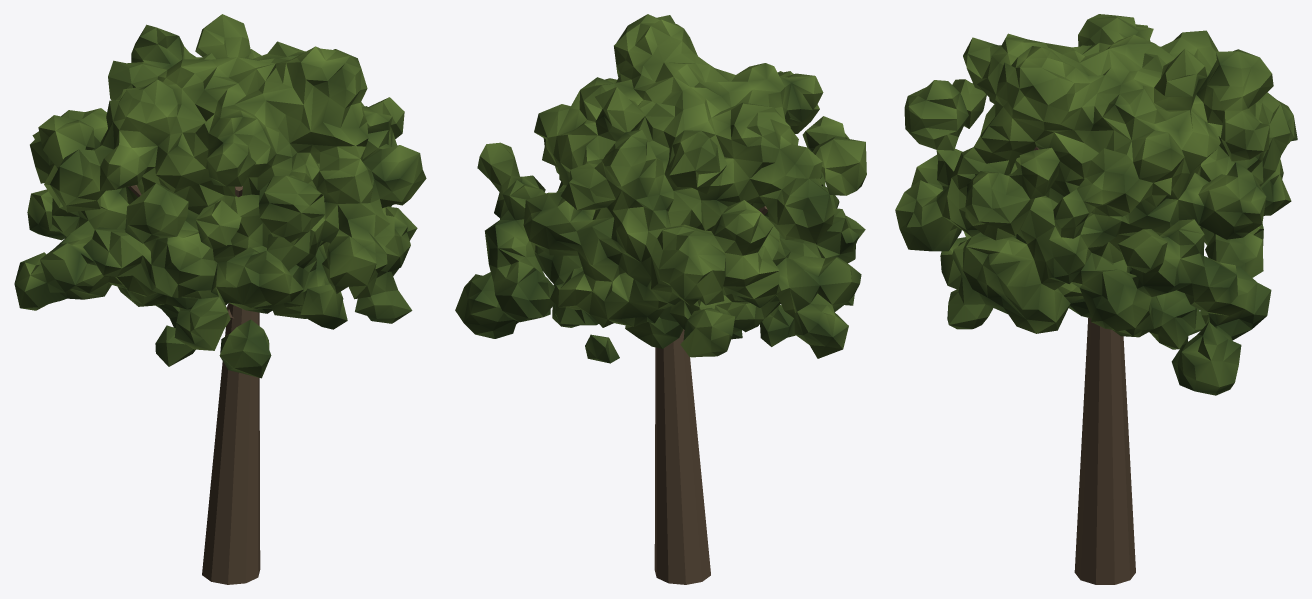
File: tree_round.glb
3 renders of one model, left to right at view 1: azimuth 30°, elevation 25°; view 2: azimuth 150°, elevation 25°; view 3: azimuth 270°, elevation 25°, orthographic. The views are drawn at different scales.
Parts seen in each view (by area): view 1: tree_round; view 2: tree_round; view 3: tree_round.
Boxes of the visible parts, <box> form: tree_round: <box>14,14,426,584</box>; tree_round: <box>455,14,866,584</box>; tree_round: <box>895,14,1297,584</box>.
Bounding box in the file's own units: 4.82 × 6.5 × 4.3.
